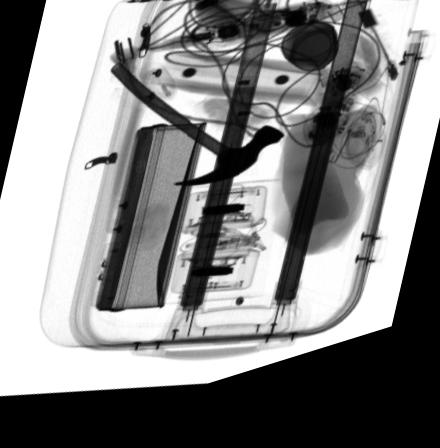Hammer: (108, 69, 285, 197)
